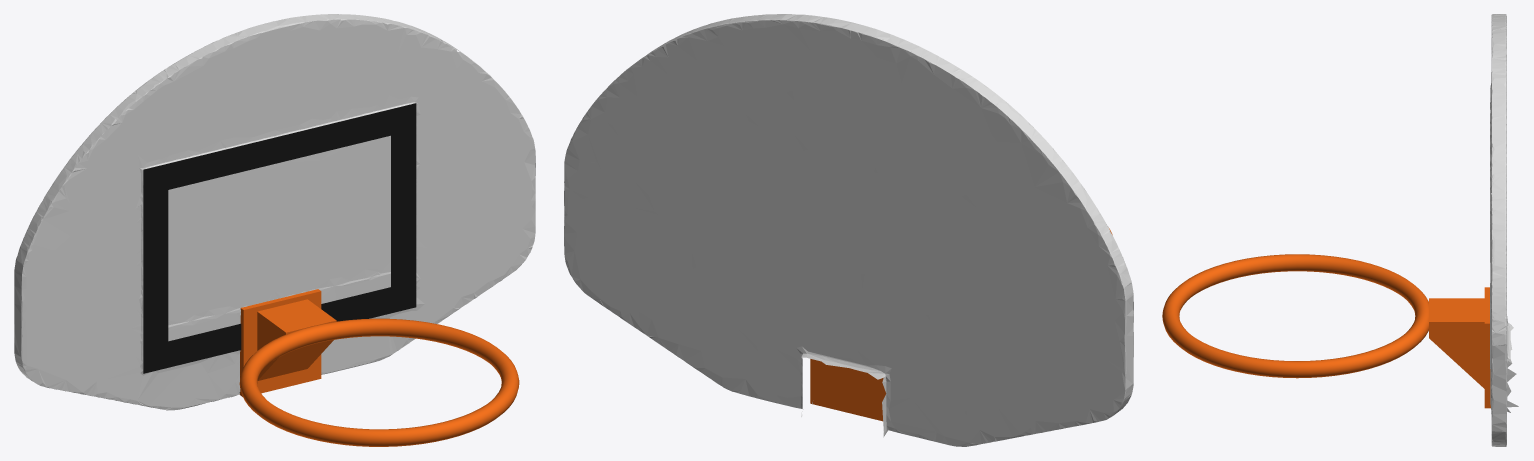
The model's file is panier.glb.
3 views of the same model, side by side, from view 1: azimuth 30°, elevation 25°; view 2: azimuth 150°, elevation 25°; view 3: azimuth 270°, elevation 25° (orthographic). The views are drawn at different scales.
Parts seen in each view (by area): view 1: planche, arceau; view 2: planche, arceau; view 3: arceau, planche.
Part boxes in pixels (x1,y1,x2,y2): planche: (14, 14, 535, 410); arceau: (239, 289, 519, 446); planche: (564, 14, 1133, 446); arceau: (810, 228, 1112, 421); arceau: (1162, 254, 1490, 408); planche: (1490, 14, 1518, 446).
Size of the model in its own units: 1.02 by 0.6944 by 0.6358.
